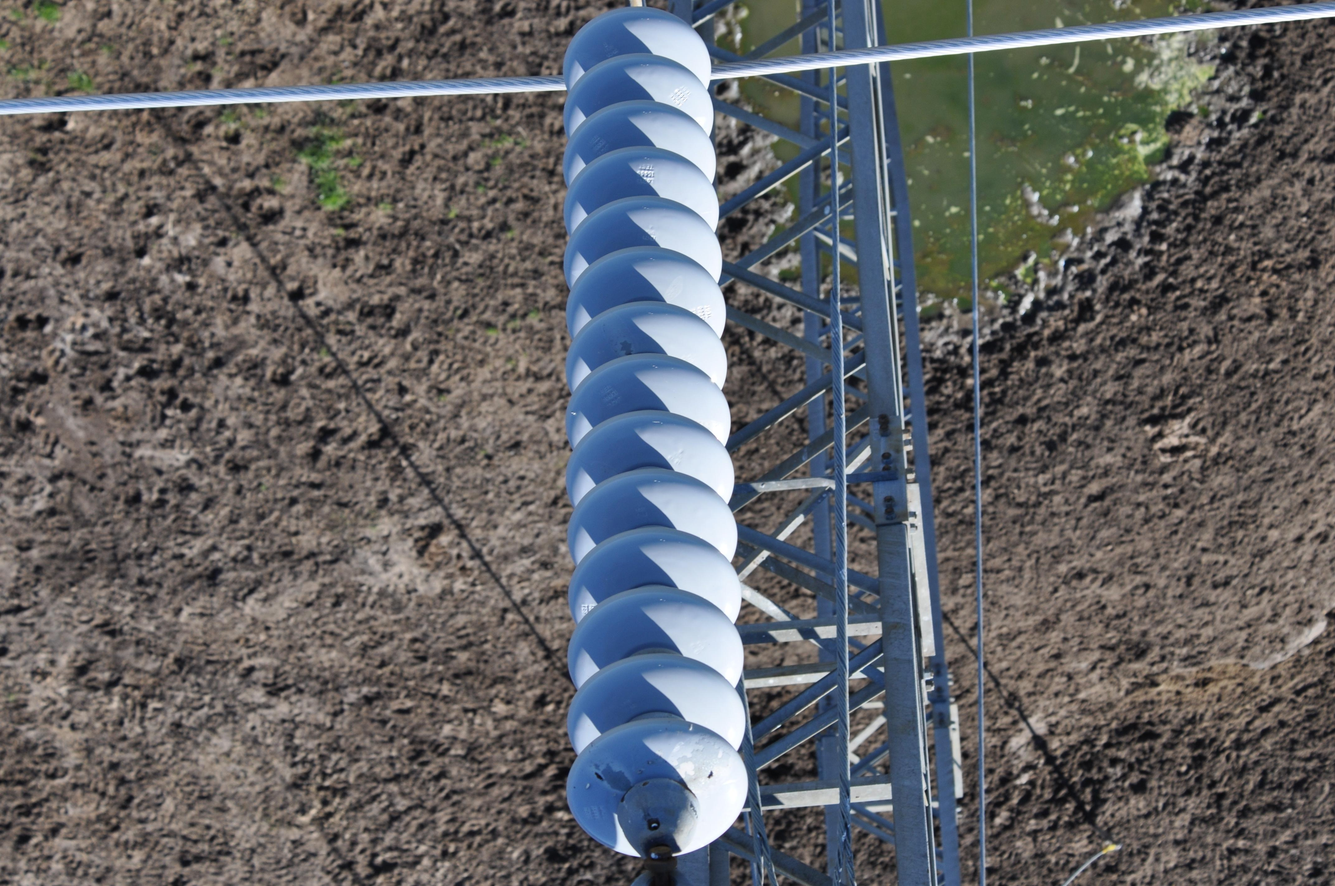Flashover: (586, 746, 659, 808), (605, 320, 640, 358)
insulator: (550, 9, 746, 828)
